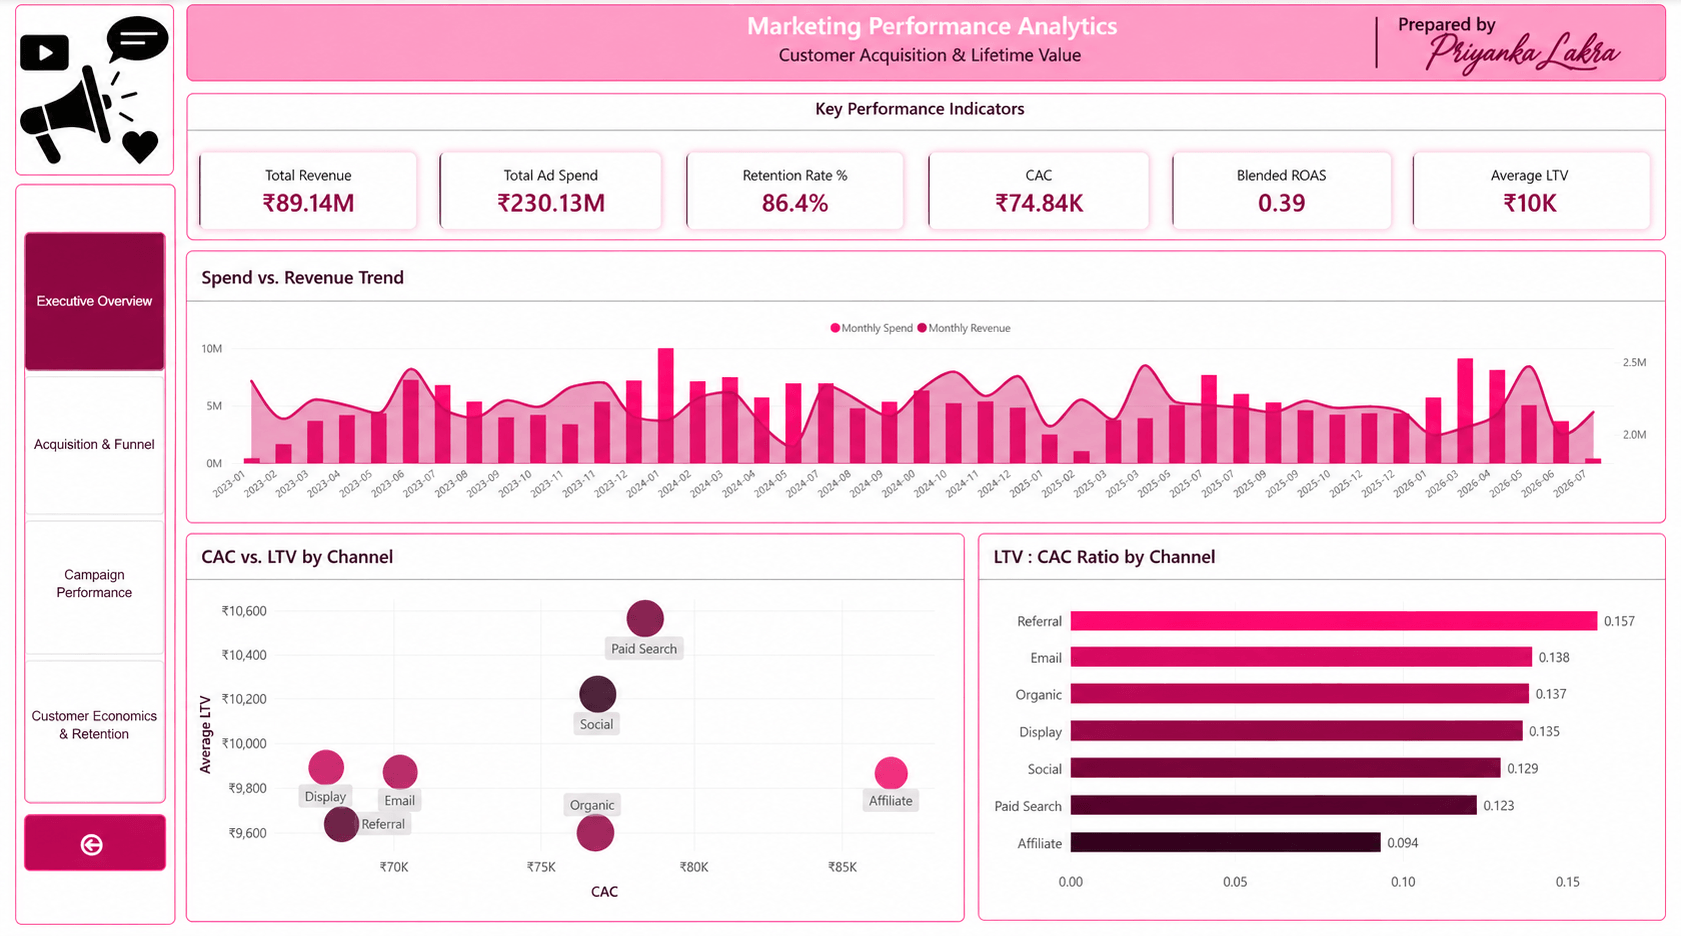

What the dashboard file says about the page in this screenshot:
{"tool":"powerbi","page":{"name":"Executive Overview","canvas":[1920,1080],"ordinal":0},"visuals":[{"type":"cardVisual","title":"Key Performance Indicators","fields":{"Data":["_Measures.Total Revenue","_Measures.Total Ad Spend","_Measures.Retention Rate %","_Measures.CAC","_Measures.Blended ROAS","_Measures.Overall ROI","_Measures.Average LTV"]},"box":[217.2,106.7,1678.5,171.2],"z":0},{"type":"shape","box":[20.2,219.1,185.9,854],"z":0,"group":"g1"},{"type":"lineClusteredColumnComboChart","title":"Spend vs. Revenue Trend","fields":{"Category":["marketing_analytics vw_monthly_marketing_performance.month"],"Y":["_Measures.Monthly Spend"],"Y2":["_Measures.Monthly Revenue"]},"box":[217.2,292.6,1678.5,312.9],"z":1000},{"type":"scatterChart","title":"CAC vs. LTV by Channel","fields":{"X":["_Measures.CAC"],"Y":["_Measures.Average LTV"],"Size":["_Measures.Total Customers Acquired"],"Series":["marketing_analytics vw_channel_ltv_cac.channel_name"]},"box":[217.2,618.8,884.4,448.4],"z":2000},{"type":"group","id":"g1","title":"Group 1","box":[16.1,6.8,190,1066.3],"z":3000},{"type":"textbox","title":"Marketing Performance Analytics","box":[217.2,7.4,1678.5,82.8],"z":4000},{"type":"clusteredBarChart","title":"LTV : CAC Ratio by Channel","fields":{"Category":["marketing_analytics vw_channel_ltv_cac.channel_name"],"Y":["Sum(marketing_analytics vw_channel_ltv_cac.ltv_cac_ratio)"]},"box":[1120.3,618.8,775,448.4],"z":5000},{"type":"pageNavigator","box":[33.1,278,156.4,646],"z":6000,"group":"g1"},{"type":"actionButton","box":[33.1,940.6,156.4,68.1],"z":7000,"group":"g1"},{"type":"image","box":[16.1,6.8,184.1,198.8],"z":8000,"group":"g1"}]}

Visuals, with their boxes in screenshot pixels (x1, y1, x2, y2), scaled from the page's 1920x1080 canvas onto the 1681x936 screenshot:
"Key Performance Indicators" cardVisual: (190,92,1660,241)
shape: (18,190,180,930)
"Spend vs. Revenue Trend" lineClusteredColumnComboChart: (190,254,1660,525)
"CAC vs. LTV by Channel" scatterChart: (190,536,964,925)
"Group 1" group: (14,6,180,930)
"Marketing Performance Analytics" textbox: (190,6,1660,78)
"LTV : CAC Ratio by Channel" clusteredBarChart: (981,536,1659,925)
pageNavigator: (29,241,166,801)
actionButton: (29,815,166,874)
image: (14,6,175,178)
